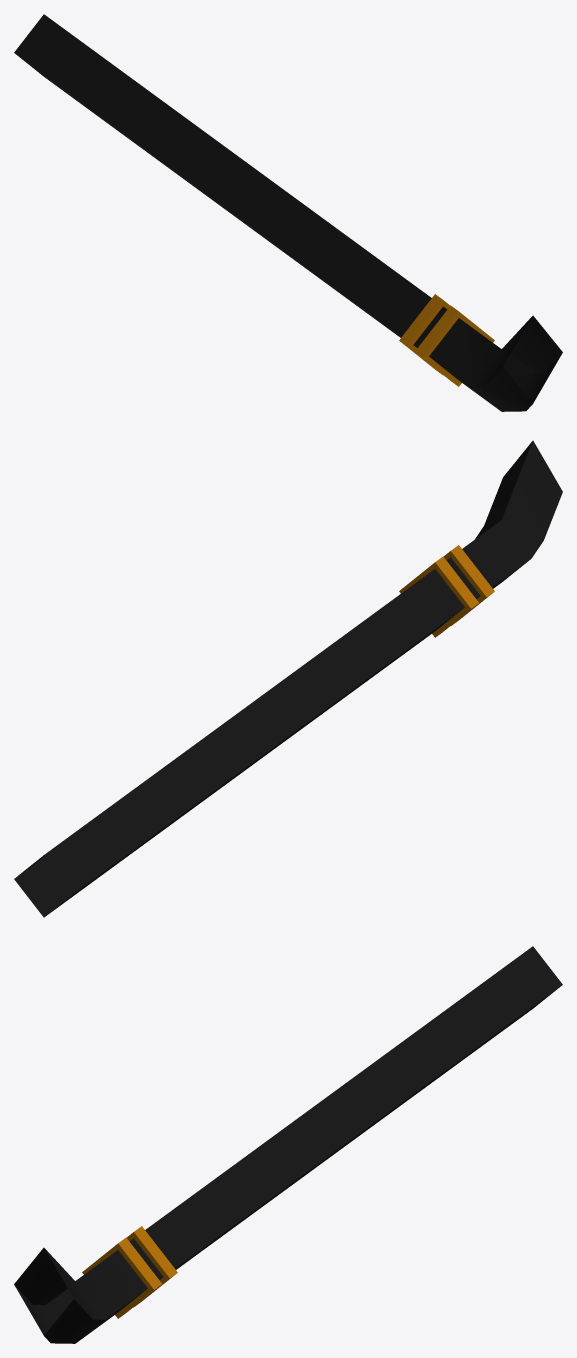
File: Pipe Bend.fbx
3 renders of one model, top to bottom at view 1: azimuth 30°, elevation 25°; view 2: azimuth 150°, elevation 25°; view 3: azimuth 330°, elevation 25°, orthographic.
Visible parts, largest first — view 1: Pipe Bend; view 2: Pipe Bend; view 3: Pipe Bend.
Part boxes in pixels (bbox=[...]): Pipe Bend: bbox=[14, 14, 562, 411]; Pipe Bend: bbox=[14, 440, 562, 917]; Pipe Bend: bbox=[14, 946, 562, 1343].
Size of the model in its own units: 34.14 by 56.85 by 400.
